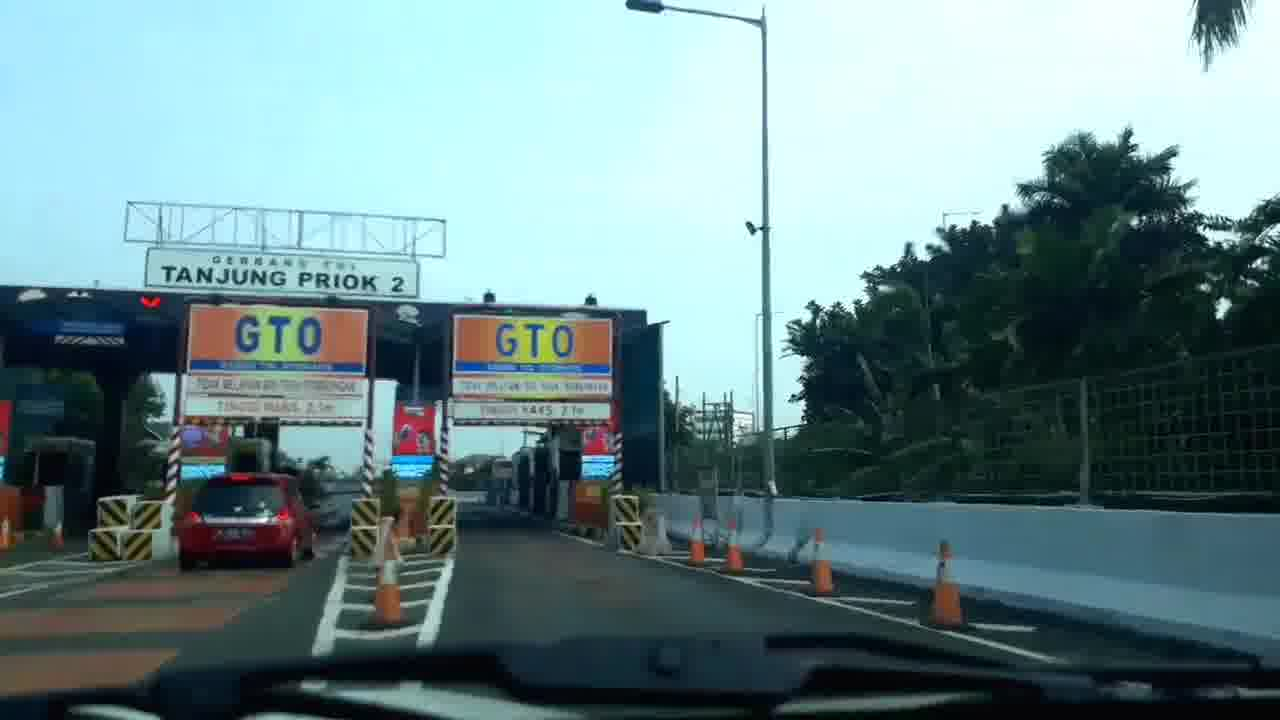plate_positive: (218, 528, 253, 543)
